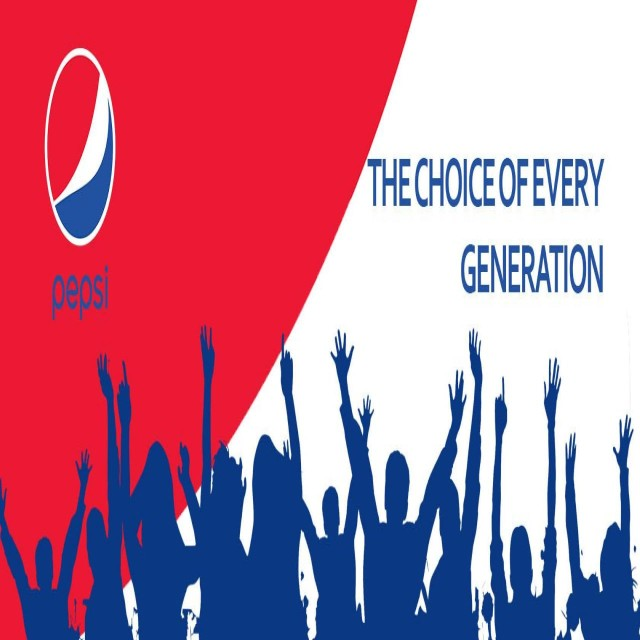pepsi: (41, 38, 120, 258)
